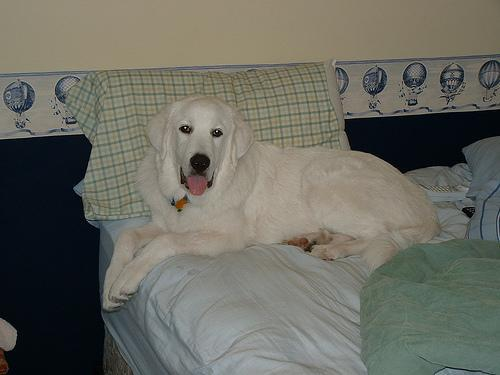Great_Pyrenees: (104, 96, 439, 311)
